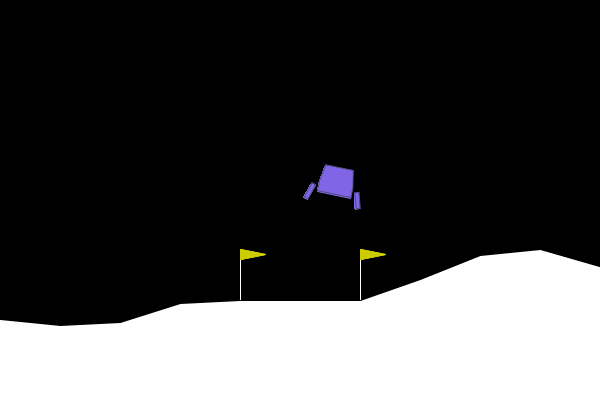lander: (302, 160, 369, 211)
